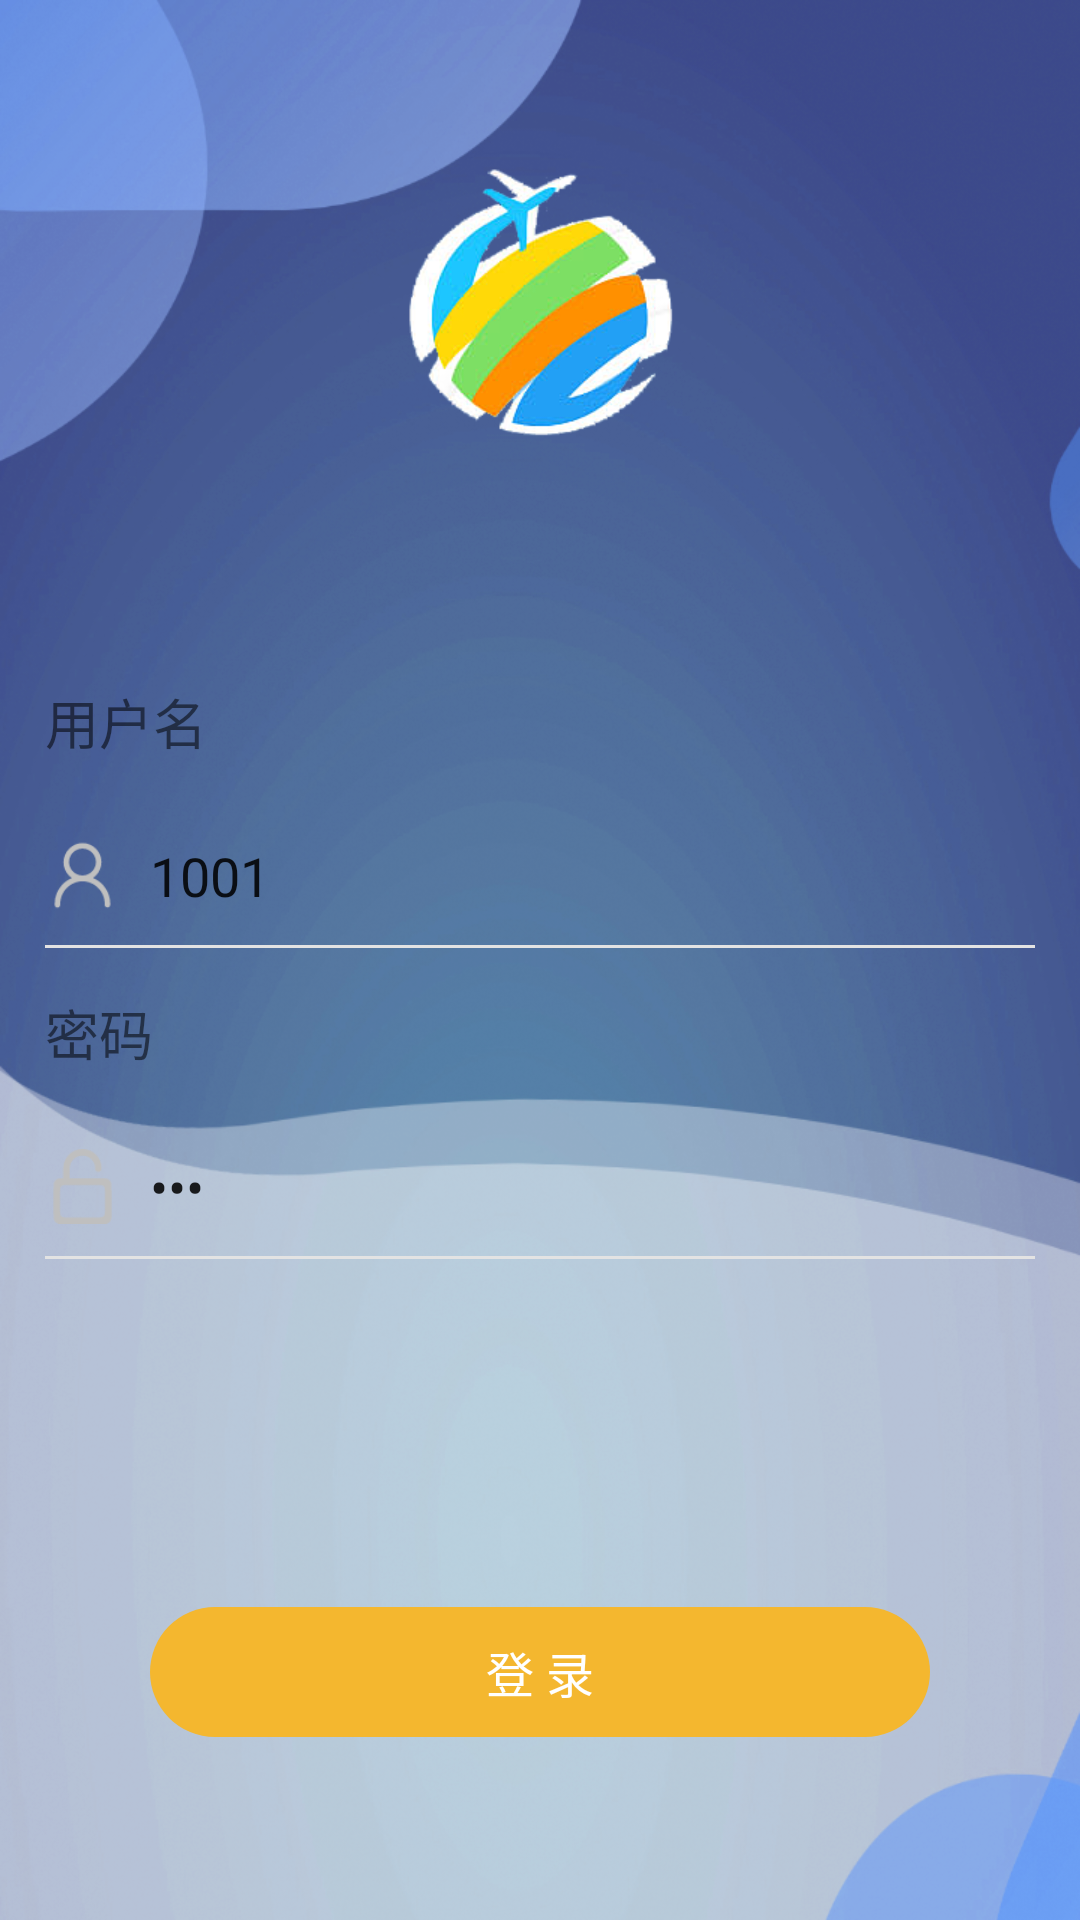

Where to tap for icons on this 1080 x 1920 app screen, as [x,y]:
login user: [82,875]
